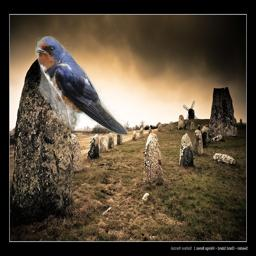Swallow: (35, 36, 128, 135)
